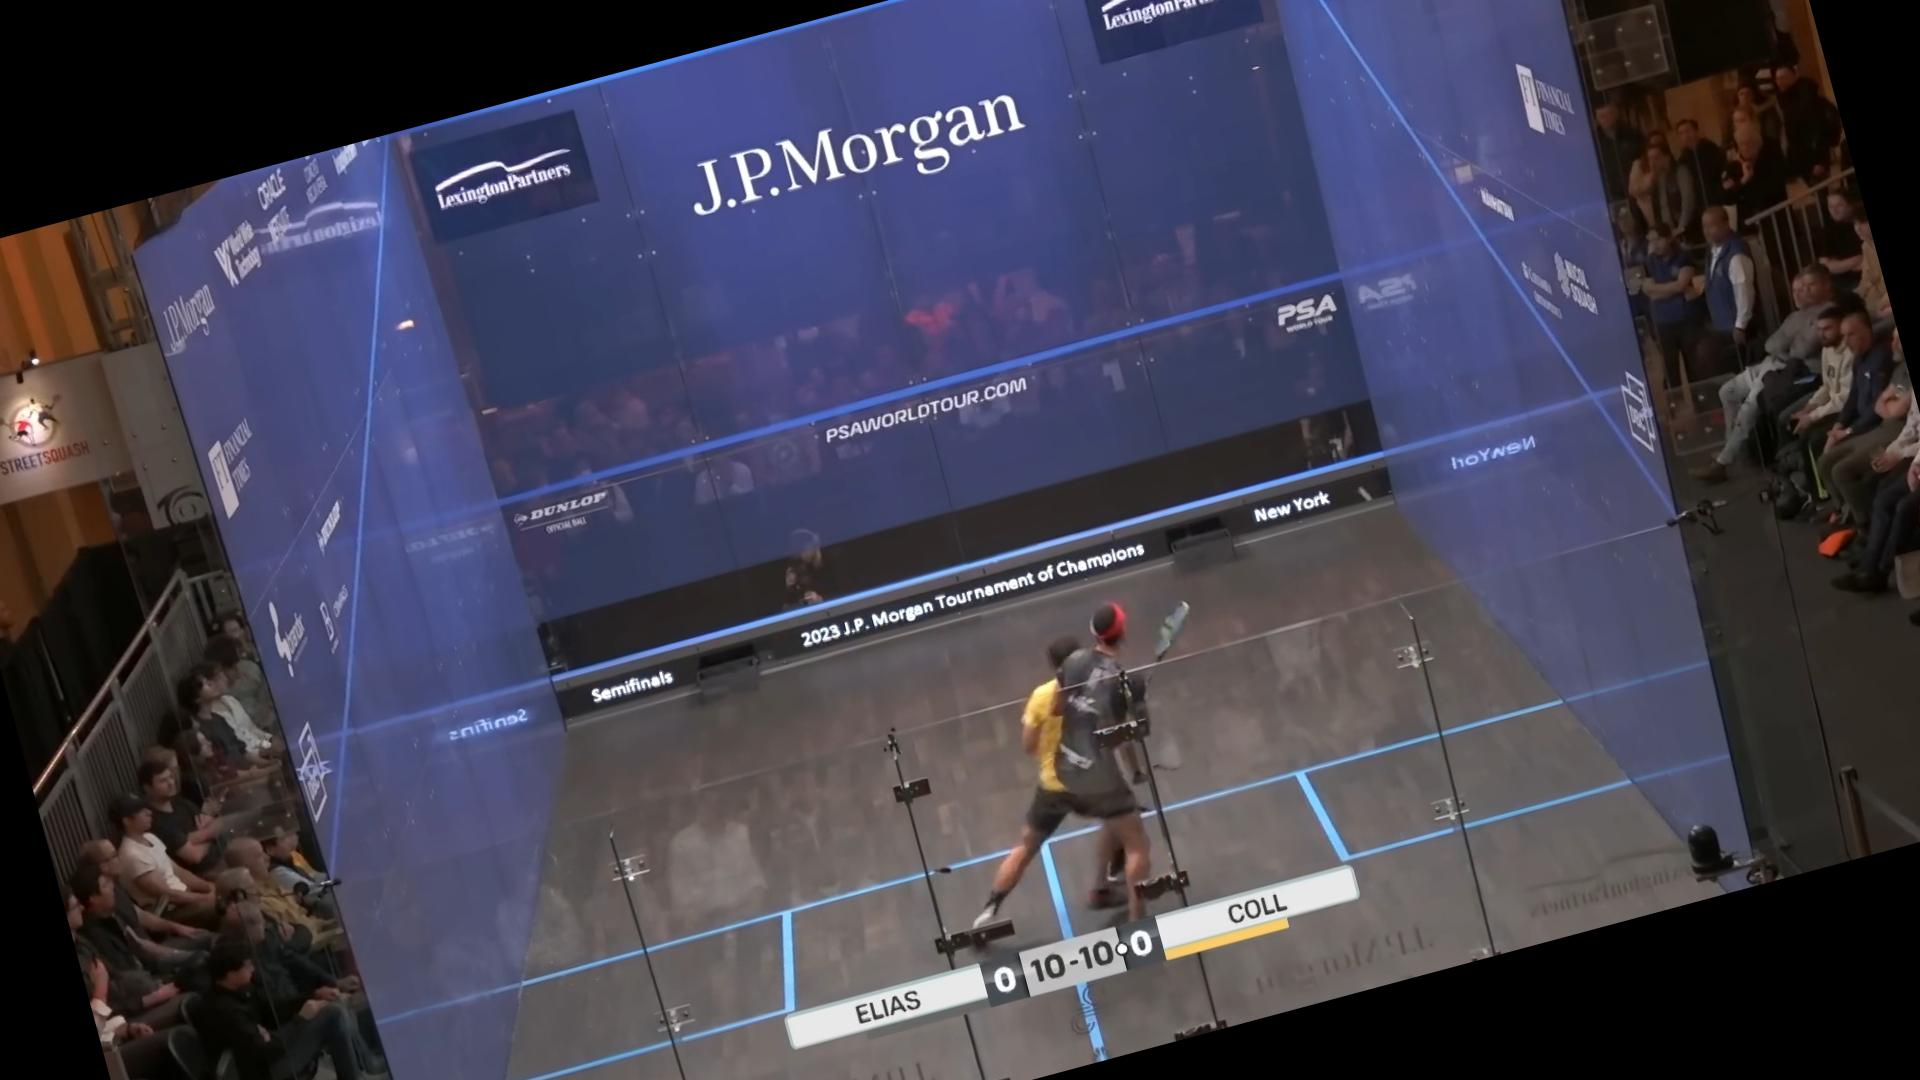Racket: (1112, 585, 1226, 690)
